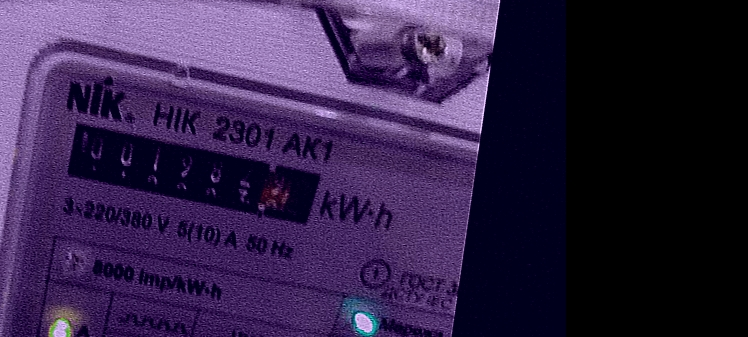0: (115, 138, 136, 169), (86, 131, 106, 162)
1: (147, 143, 163, 173)
2: (236, 159, 258, 190)
8: (206, 155, 226, 185)
9: (266, 169, 289, 200), (175, 150, 194, 181)
screen: (46, 106, 338, 242)
